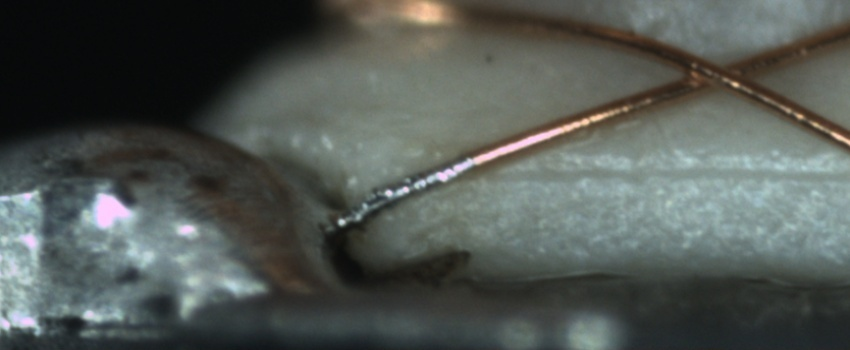CL: (656, 46, 775, 98)
DL: (413, 139, 850, 203)
TS: (327, 155, 478, 230)
